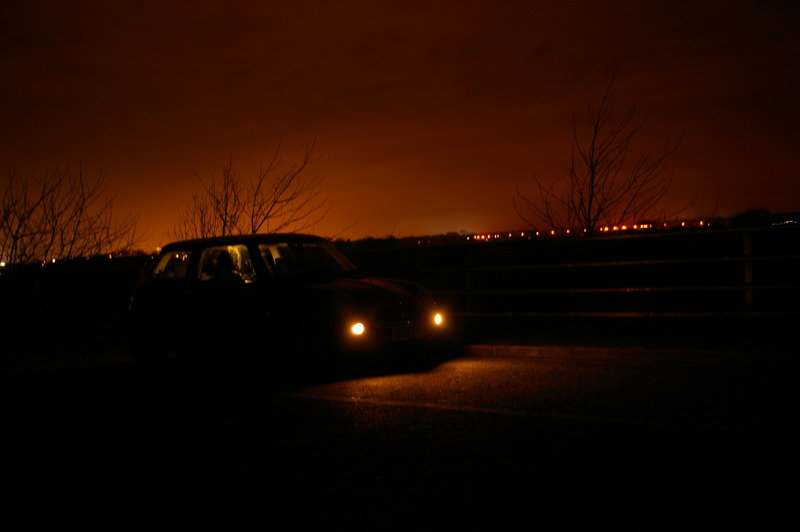car: (116, 233, 462, 392)
